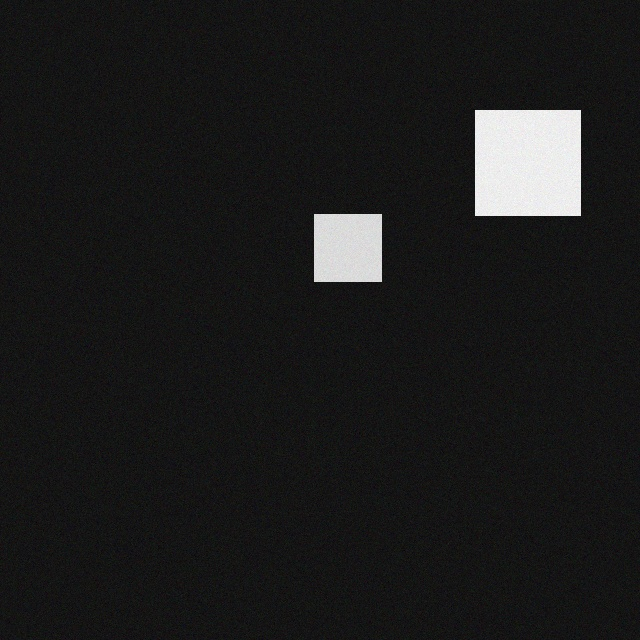square: (463, 104, 568, 209), (302, 208, 369, 275)
